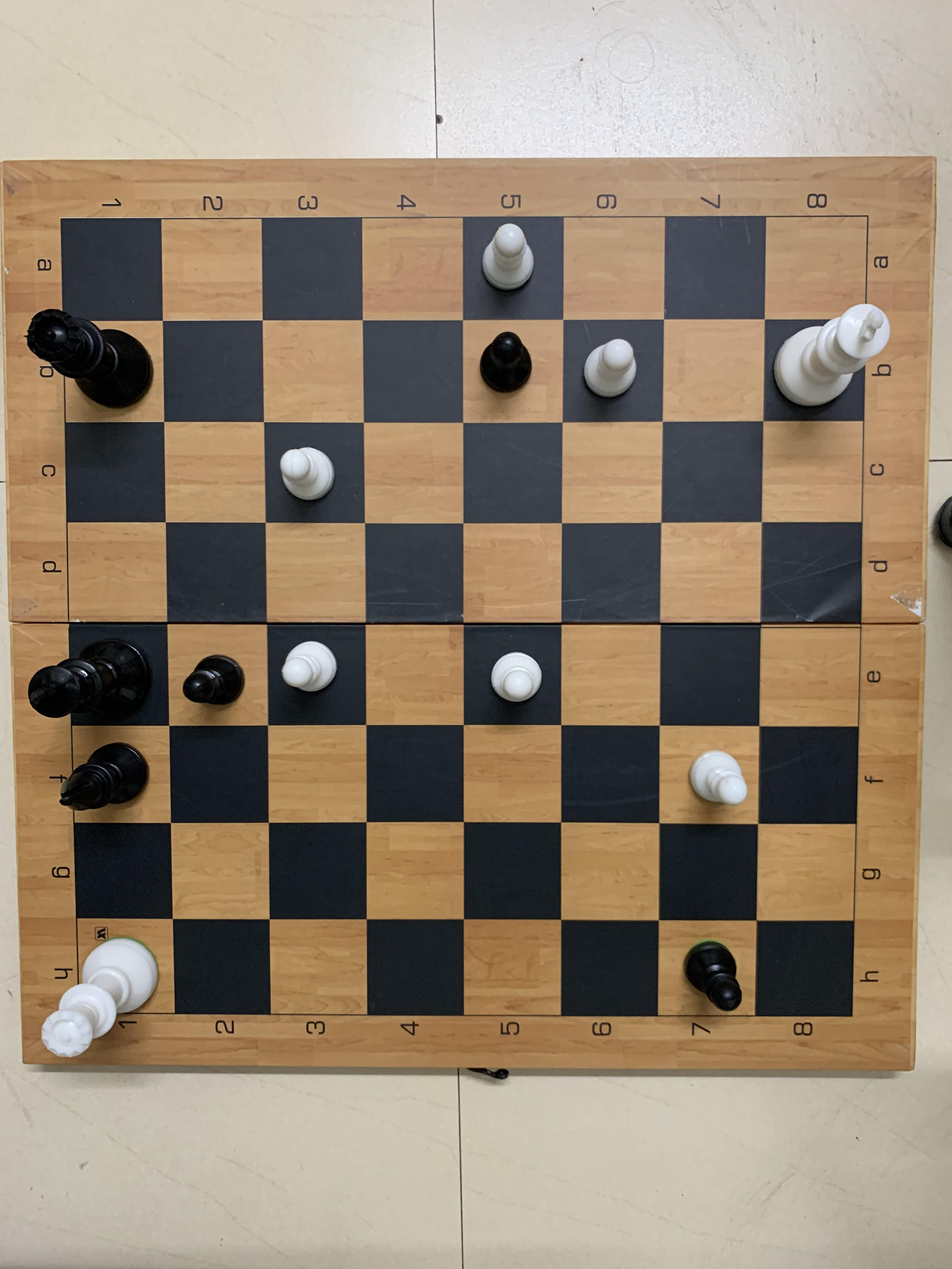black_bishop: (47, 732, 164, 822)
black_king: (18, 626, 173, 730)
black_pawn: (467, 315, 551, 417), (178, 634, 269, 723), (669, 926, 752, 1013)
black_queen: (20, 291, 167, 417)
white_king: (765, 296, 901, 422)
white_pawn: (570, 317, 669, 419), (469, 628, 560, 720), (264, 424, 354, 517), (674, 738, 766, 828), (471, 222, 560, 309), (263, 628, 346, 713)
white_queen: (41, 927, 163, 1055)
